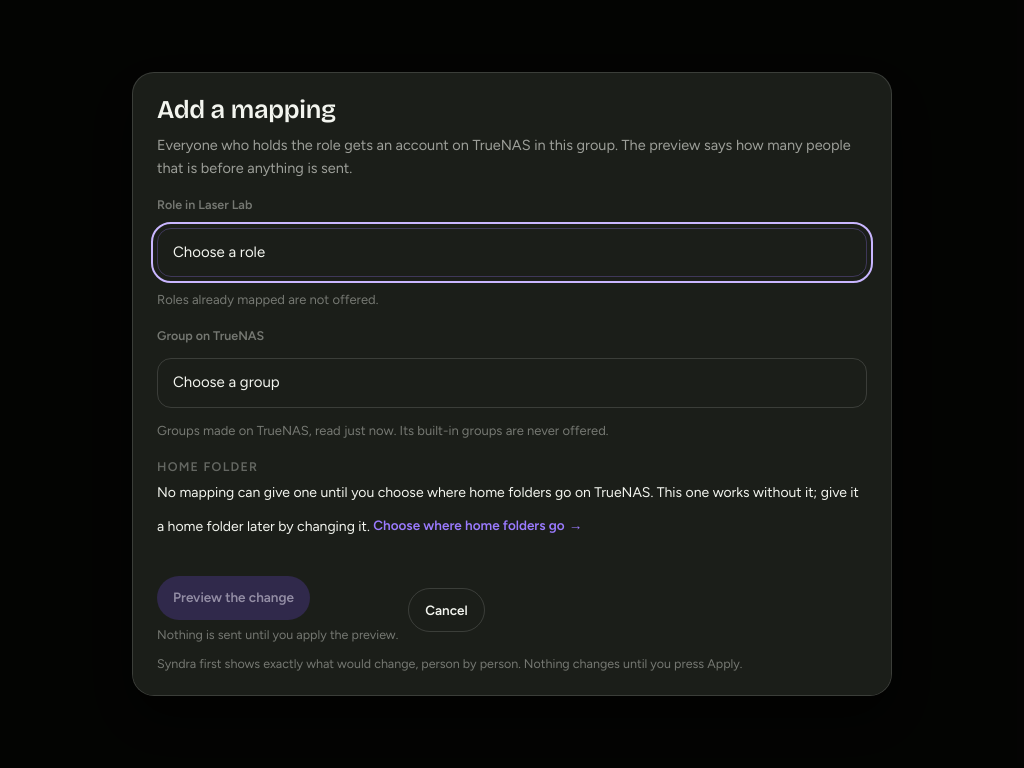
Test: adding a mapping › says when the value could not be checked
Select "Trained operator" in the dropdown labelled "Role in Laser Lab" at (512, 252), box [157,228,867,277]
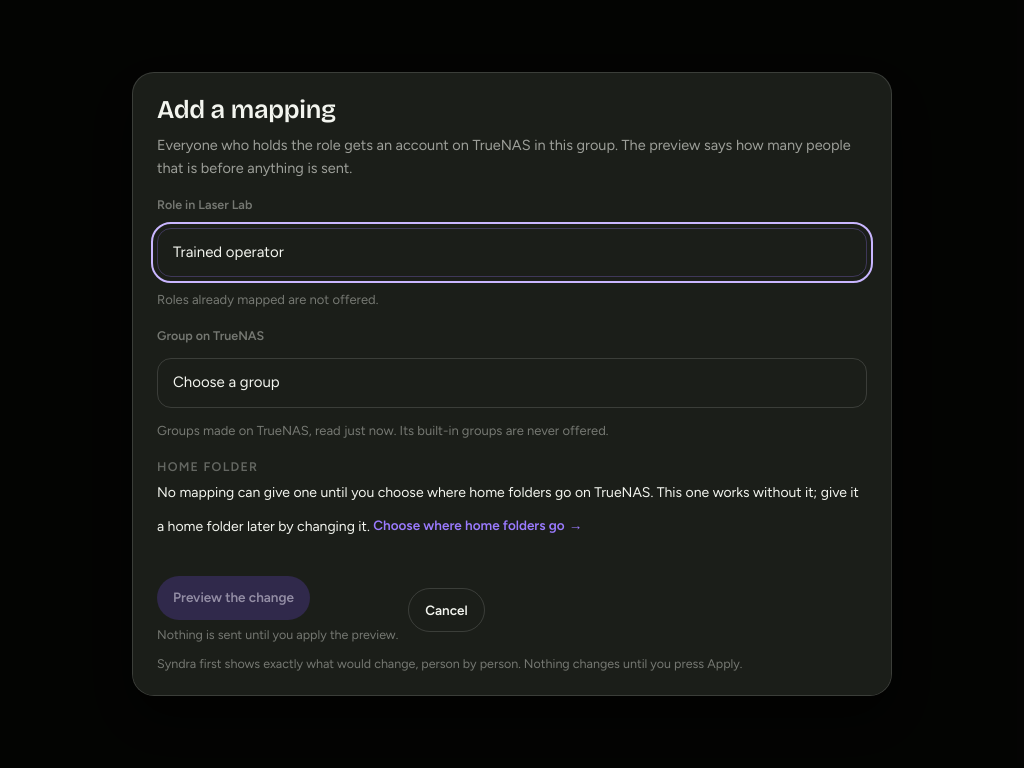
Select "makers" in the dropdown labelled "Group on TrueNAS" at (512, 383), box [157,358,867,408]
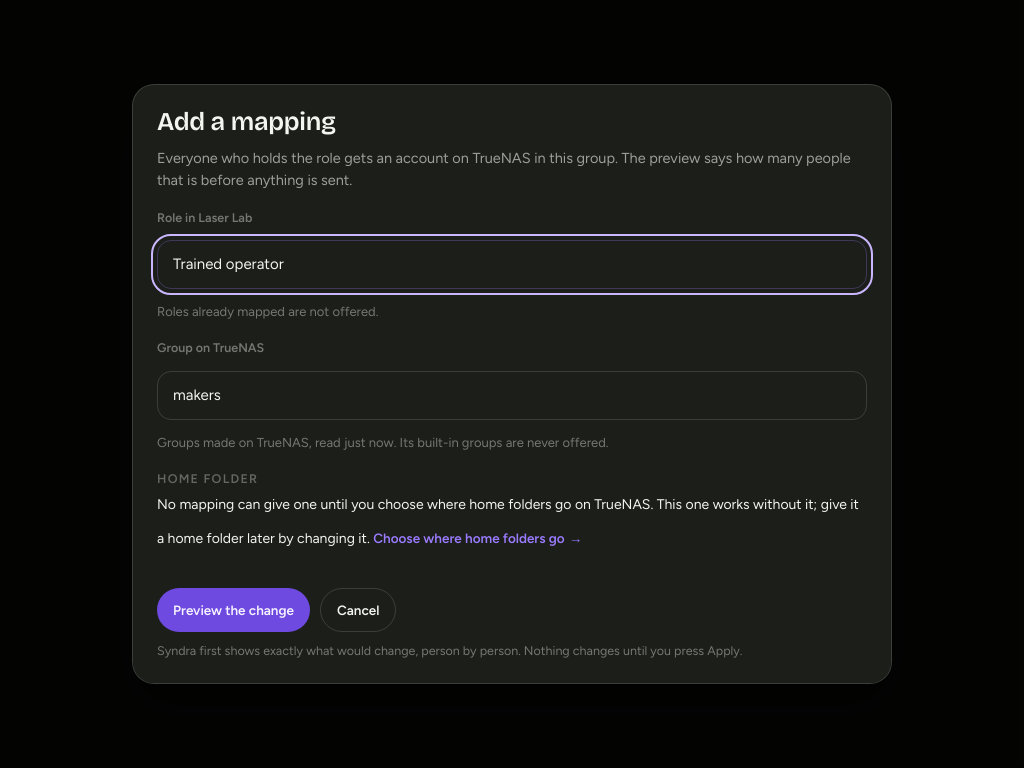
Click the button "Preview the change".
click(234, 610)  # box [157,588,310,632]
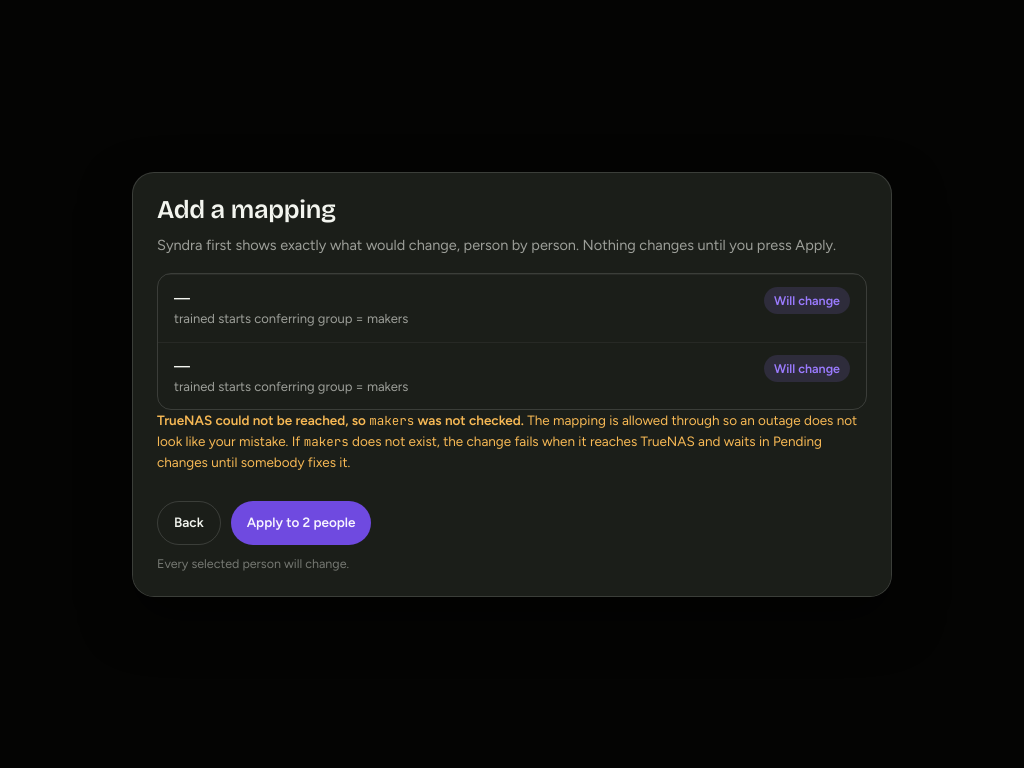
Check: the text "could not be reached, so" is shown, box [212,412,369,428]
